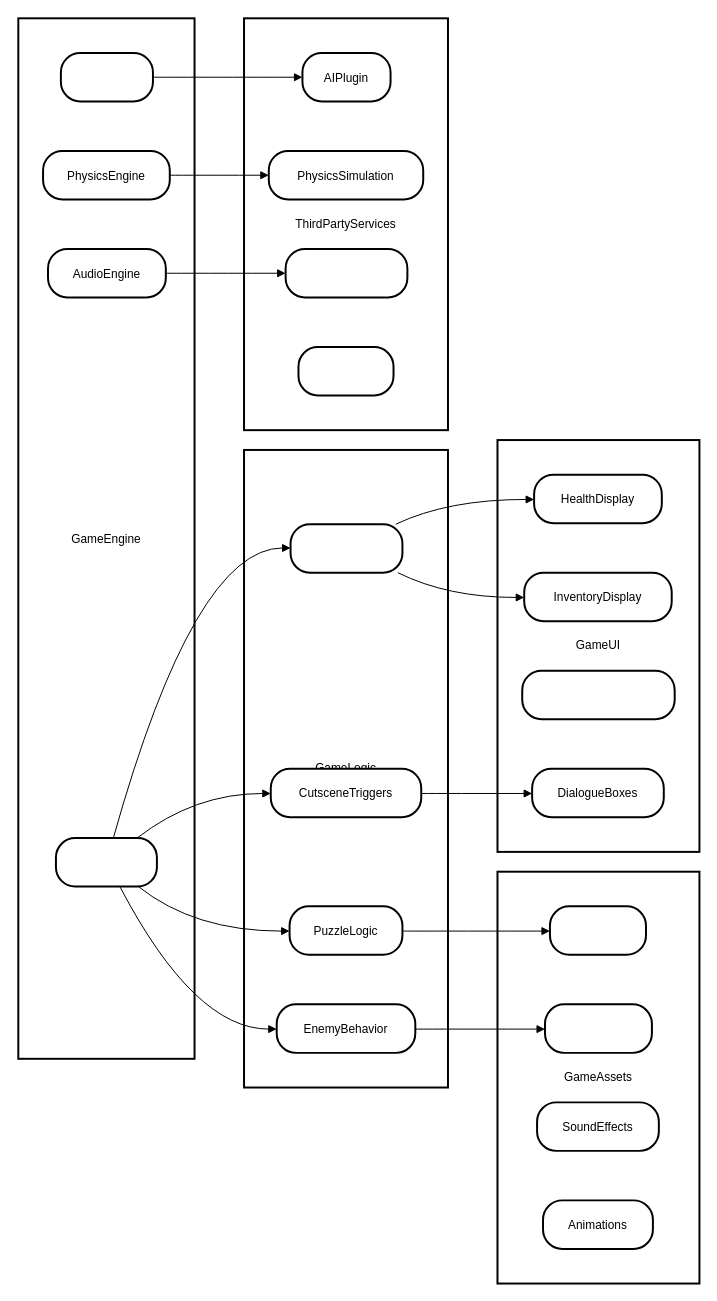
Some shapes in this 717 by 1301 pixel diagram are drawn without their labels. The centre of each missing label's shape, as x and y in pixels:
"AIEngine" goes at point (106, 76).
"Analytics" goes at point (345, 371).
"AudioLibrary" goes at point (346, 273).
"Characters" goes at point (598, 1028).
"GamePlay" goes at point (105, 862).
"LevelMap" goes at point (597, 930).
"ObjectiveTracker" goes at point (598, 694).
"PlayerInput" goes at point (346, 548).
